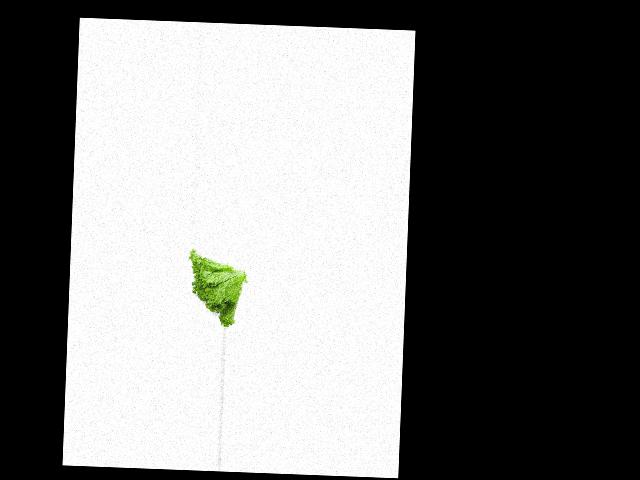lettuce: (184, 248, 247, 328)
